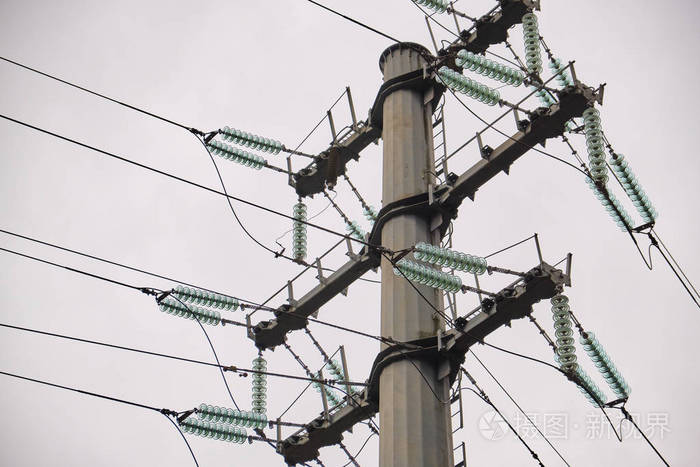insulator: (581, 329, 629, 399), (553, 351, 607, 410), (610, 156, 657, 222), (434, 69, 501, 106), (413, 243, 488, 274), (589, 181, 634, 231), (457, 51, 524, 84), (392, 261, 460, 292), (583, 107, 608, 184), (179, 417, 247, 445), (195, 405, 270, 430), (552, 294, 577, 369), (174, 284, 239, 312), (208, 140, 266, 170), (219, 126, 281, 154), (157, 299, 221, 326), (306, 372, 344, 407), (523, 12, 542, 74), (250, 358, 269, 414), (292, 203, 310, 261), (328, 361, 357, 397), (547, 58, 572, 89), (342, 220, 367, 243), (416, 1, 449, 15), (534, 86, 554, 107), (364, 203, 379, 224)
